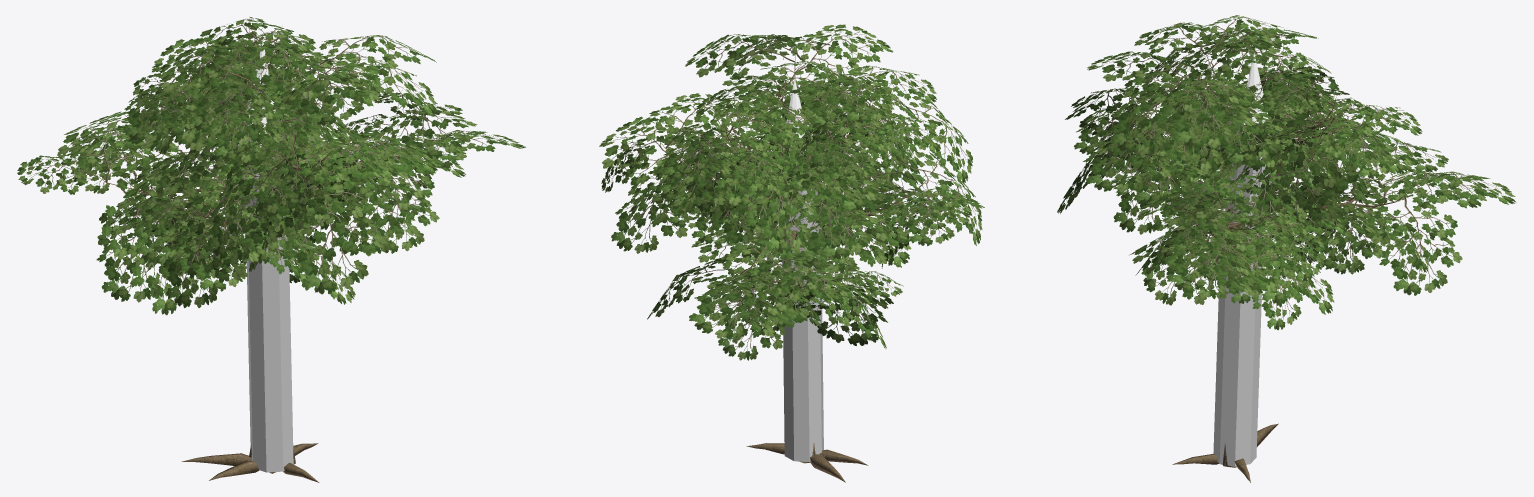
File: Tree_2.dae
3 views of the same model, side by side, from view 1: azimuth 30°, elevation 25°; view 2: azimuth 150°, elevation 25°; view 3: azimuth 270°, elevation 25° (orthographic). The views are drawn at different scales.
Visible parts, largest first — view 1: leaf19d, col_1, branches4d; view 2: leaf19d, col_1, branches4d; view 3: leaf19d, col_1, branches4d.
Part boxes in pixels (box(x1,y1,x2,y2)): leaf19d: box(17, 17, 525, 315); col_1: box(243, 41, 293, 472); branches4d: box(89, 18, 402, 482); leaf19d: box(599, 24, 984, 360); col_1: box(778, 78, 823, 461); branches4d: box(653, 47, 931, 482); leaf19d: box(1057, 15, 1516, 330); col_1: box(1213, 53, 1271, 466); branches4d: box(1117, 37, 1408, 482).
Bounding box in the file's own units: 10.98 × 10.69 × 10.53.
2 materials, 2 textured.
